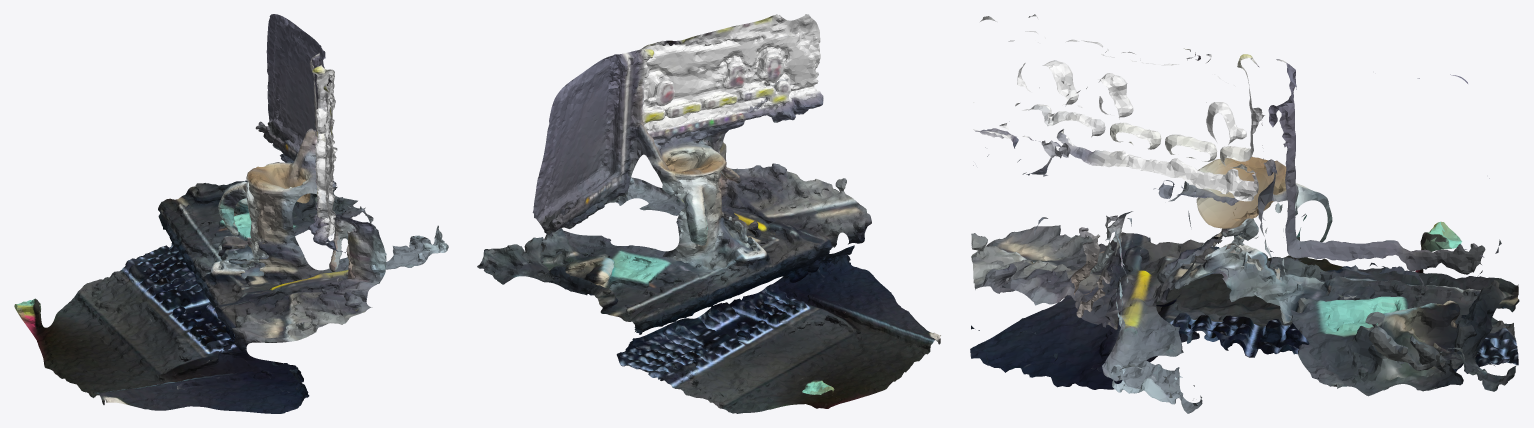
The picture shows the model from 3 angles, left to right: view 1: azimuth 30°, elevation 25°; view 2: azimuth 150°, elevation 25°; view 3: azimuth 270°, elevation 25°; orthographic projection. The views are drawn at different scales.
Size of the model in its own units: 0.5415 by 0.3877 by 0.4805.
Materials: 1 (1 with a texture image).
